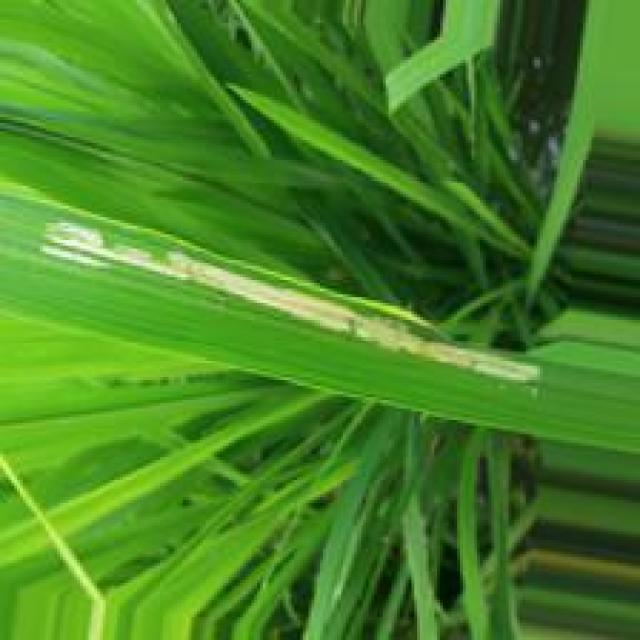Rice_Hispa: (40, 219, 554, 380)
